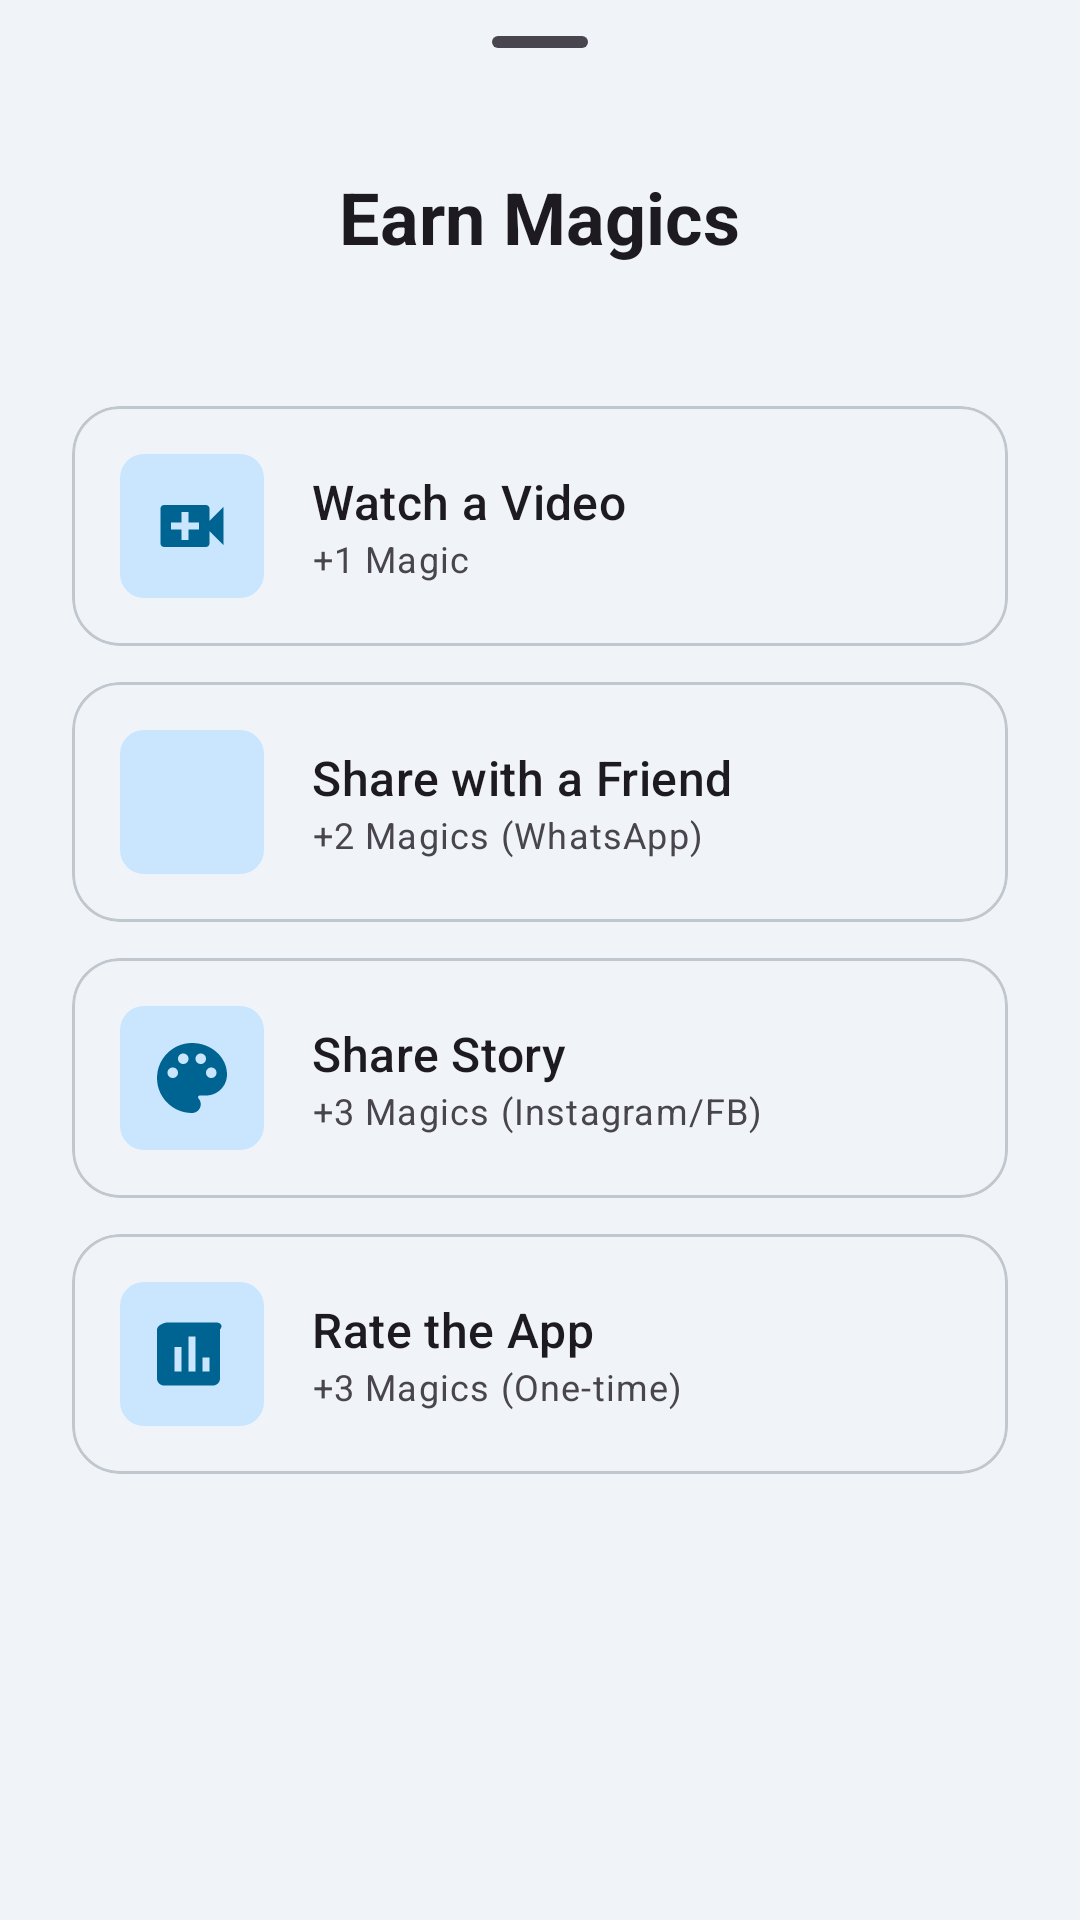

Icons on this 1080*1920 Android screen, each with the point to tap as [x,y]:
assessment: [189,1354]
palette: [192,1078]
video reward: [192,526]
